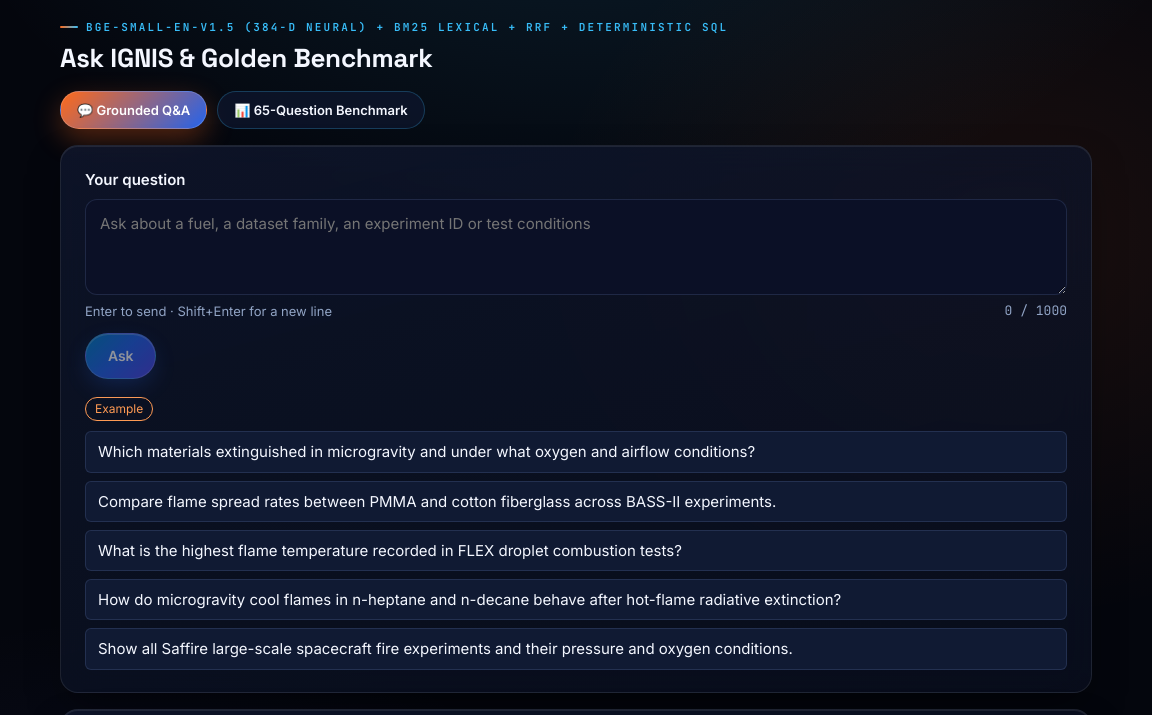
Test: App › renders the Grounded NASA PSI Dossiers & NTRS Literature Context panel when literature is returned
Replace the text in the text box labelled "Your question" with "Cool flames?" at (576, 247), box [85,199,1067,295]
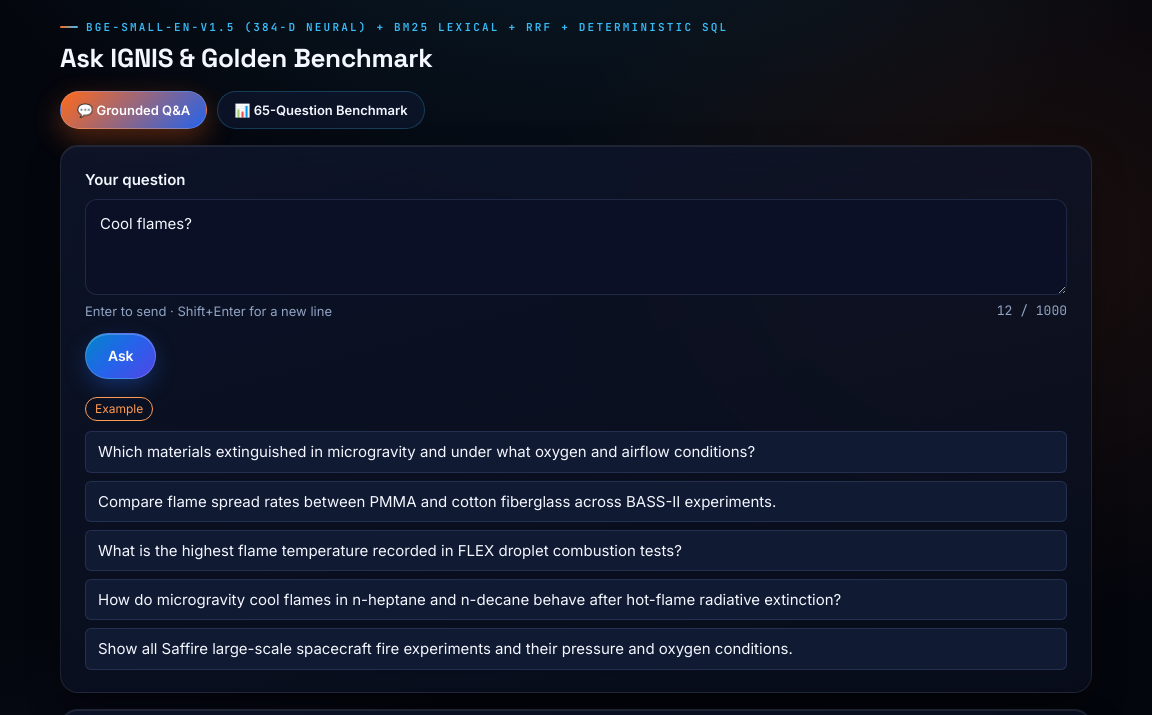
Click the button "Ask" at (121, 356), box [85,333,156,379]
(page scrolled)
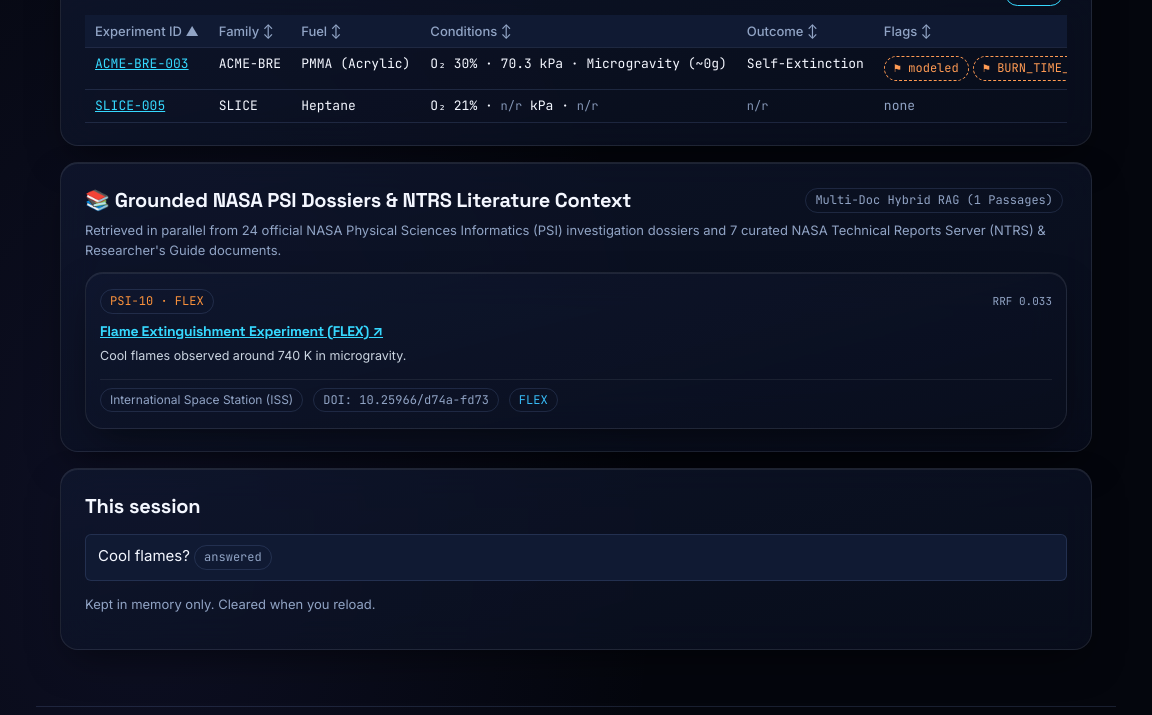
Check: the heading "📚 Grounded NASA PSI Dossiers & NTRS Literature Context" is shown, box [85,185,631,216]
Check: the link "Flame Extinguishment Experiment (FLEX) ↗" is shown, box [100,322,383,340]
Check: the text "Cool flames observed around 740 K in microgravity." is shown, box [100,348,406,363]
